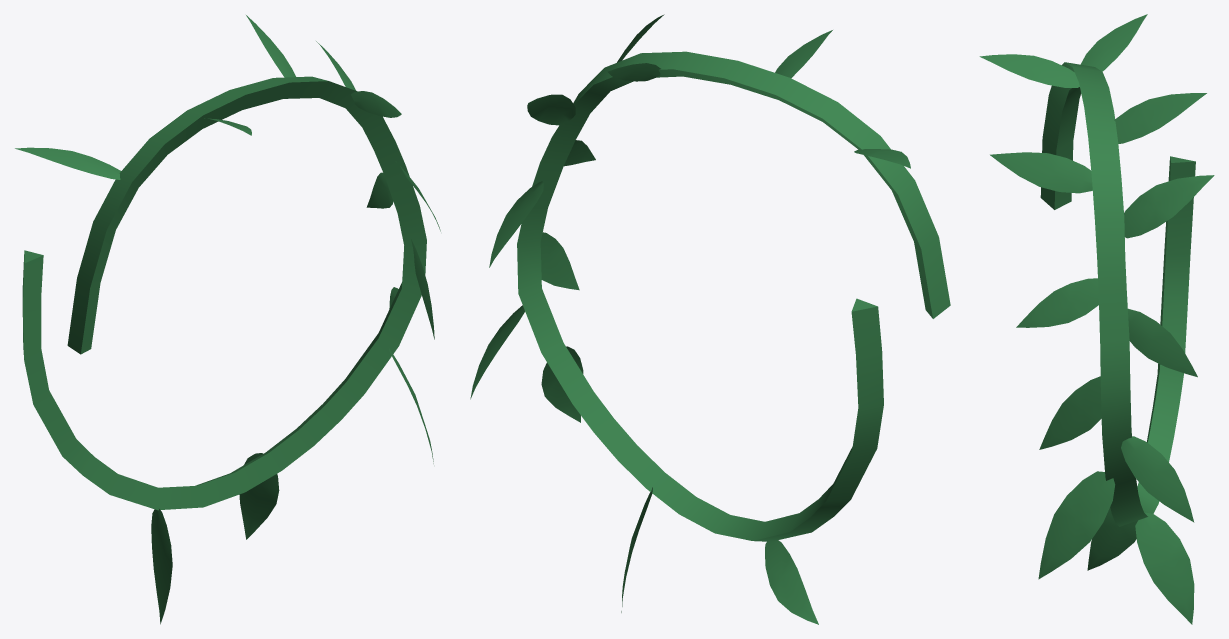
File: vine_W_scanden_loop_big_angle.fbx
3 renders of one model, left to right at view 1: azimuth 30°, elevation 25°; view 2: azimuth 150°, elevation 25°; view 3: azimuth 270°, elevation 25°, orthographic. The views are drawn at different scales.
Visible parts, largest first — view 1: vine_W_scanden_loop_big_angle_root, vine_scanden_A_leaf_A71, vine_scanden_A_leaf_A74, vine_scanden_A_leaf_A69, vine_scanden_A_leaf_A78, vine_scanden_A_leaf_A68, vine_scanden_A_leaf_A73, vine_scanden_A_leaf_A76; view 2: vine_W_scanden_loop_big_angle_root, vine_scanden_A_leaf_A71, vine_scanden_A_leaf_A73, vine_scanden_A_leaf_A76, vine_scanden_A_leaf_A70, vine_scanden_A_leaf_A77, vine_scanden_A_leaf_A, vine_scanden_A_leaf_A72, vine_scanden_A_leaf_A68; view 3: vine_W_scanden_loop_big_angle_root, vine_scanden_A_leaf_A77, vine_scanden_A_leaf_A74, vine_scanden_A_leaf_A70, vine_scanden_A_leaf_A, vine_scanden_A_leaf_A78, vine_scanden_A_leaf_A73, vine_scanden_A_leaf_A75, vine_scanden_A_leaf_A68, vine_scanden_A_leaf_A76, vine_scanden_A_leaf_A72, vine_scanden_A_leaf_A71 (+1 smaller).
Boxes of the visible parts, x1,y1,x2,y2 form: vine_W_scanden_loop_big_angle_root: (22,76,426,510); vine_scanden_A_leaf_A71: (151,509,172,624); vine_scanden_A_leaf_A74: (239,453,279,539); vine_scanden_A_leaf_A69: (15,147,120,179); vine_scanden_A_leaf_A78: (351,91,401,117); vine_scanden_A_leaf_A68: (246,15,295,77); vine_scanden_A_leaf_A73: (411,239,434,339); vine_scanden_A_leaf_A76: (366,172,393,208); vine_W_scanden_loop_big_angle_root: (517,51,950,541); vine_scanden_A_leaf_A71: (765,540,818,624); vine_scanden_A_leaf_A73: (540,232,579,290); vine_scanden_A_leaf_A76: (489,181,543,267); vine_scanden_A_leaf_A70: (527,94,575,125); vine_scanden_A_leaf_A77: (541,346,583,422); vine_scanden_A_leaf_A: (470,305,524,399); vine_scanden_A_leaf_A72: (775,30,832,78); vine_scanden_A_leaf_A68: (607,63,660,81); vine_W_scanden_loop_big_angle_root: (1040,62,1195,526); vine_scanden_A_leaf_A77: (1038,471,1115,579); vine_scanden_A_leaf_A74: (1135,512,1194,624); vine_scanden_A_leaf_A70: (1124,175,1214,238); vine_scanden_A_leaf_A: (1121,436,1194,522); vine_scanden_A_leaf_A78: (990,152,1092,193); vine_scanden_A_leaf_A73: (1039,376,1101,449); vine_scanden_A_leaf_A75: (1016,278,1098,327); vine_scanden_A_leaf_A68: (1114,93,1206,143); vine_scanden_A_leaf_A76: (1128,308,1197,377); vine_scanden_A_leaf_A72: (979,54,1079,87); vine_scanden_A_leaf_A71: (1087,507,1137,570).
Bounding box in the file's own units: 61.53 × 78.95 × 30.7.
